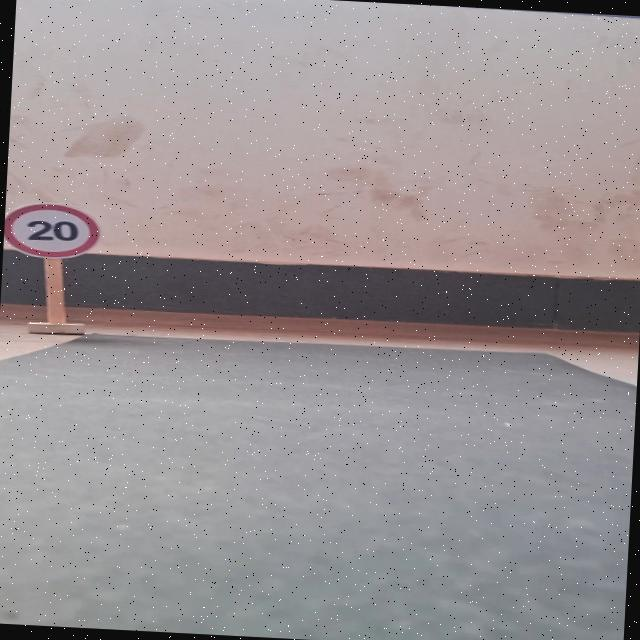Speed20: (3, 198, 110, 262)
